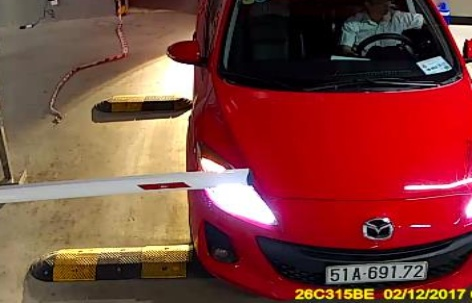plate: (326, 256, 434, 287)
